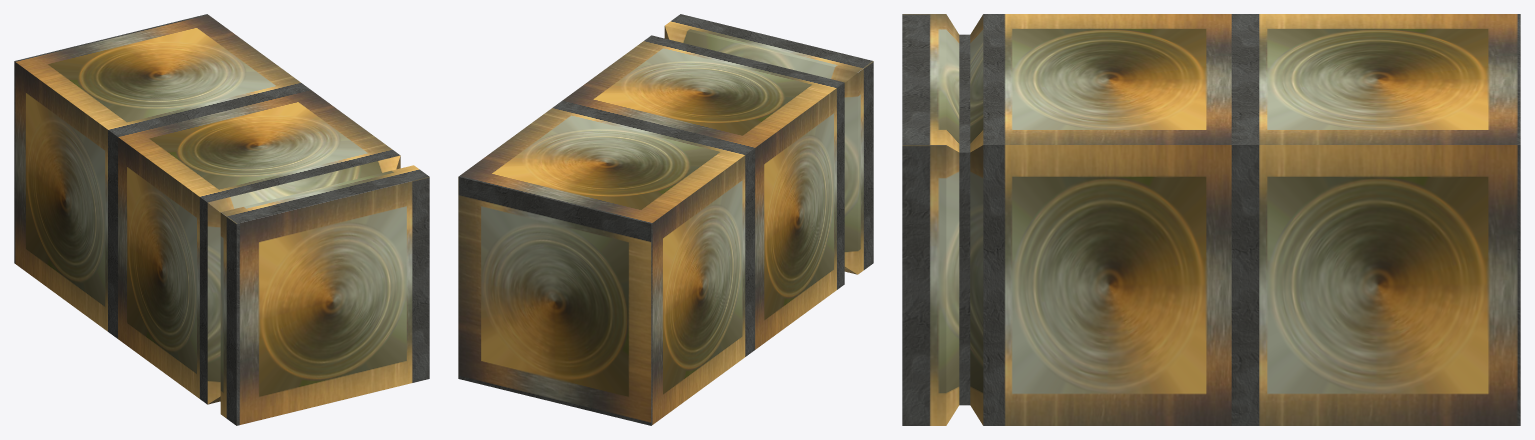
The picture shows the model from 3 angles, left to right: view 1: azimuth 30°, elevation 25°; view 2: azimuth 150°, elevation 25°; view 3: azimuth 270°, elevation 25°; orthographic projection. The views are drawn at different scales.
Visible parts, largest first — view 1: Cube_Cube_None_QuartoPieces.png; view 2: Cube_Cube_None_QuartoPieces.png; view 3: Cube_Cube_None_QuartoPieces.png.
Part boxes in pixels (<box>): Cube_Cube_None_QuartoPieces.png: <box>14,14,429,425</box>; Cube_Cube_None_QuartoPieces.png: <box>458,14,873,425</box>; Cube_Cube_None_QuartoPieces.png: <box>902,14,1520,425</box>.
Size of the model in its own units: 2 by 2 by 3.99.
